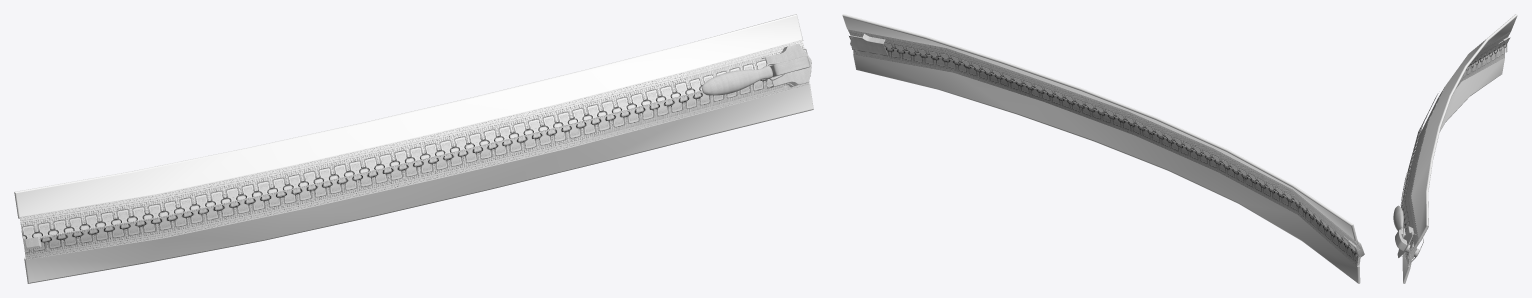
File: Welt_Pocket_with_Zip.glb
3 renders of one model, left to right at view 1: azimuth 30°, elevation 25°; view 2: azimuth 150°, elevation 25°; view 3: azimuth 270°, elevation 25°, orthographic. The views are drawn at different scales.
Visible parts, largest first — view 1: Pattern_4461596_Node, Pattern_4461595_Node, ZipperPattern_4528982_Node, ZipperPattern_4528969_Node, MatShape_934653_Node, MatShape_934661_Node, ZipperSlider4529011_Node, ZipperPuller4538679_Node; view 2: Pattern_4461595_Node, Pattern_4461596_Node, MatShape_934661_Node, ZipperPattern_4528969_Node, ZipperPattern_4528982_Node, MatShape_934653_Node, ZipperSlider4529011_Node; view 3: Pattern_4461596_Node, Pattern_4461595_Node, ZipperPattern_4528969_Node, MatShape_934653_Node, ZipperSlider4529011_Node, MatShape_934661_Node, ZipperPattern_4528982_Node, ZipperPuller4538679_Node.
Part boxes in pixels (bbox=[...]): Pattern_4461596_Node: bbox=[14, 14, 803, 218]; Pattern_4461595_Node: bbox=[24, 82, 813, 283]; ZipperPattern_4528982_Node: bbox=[24, 80, 809, 259]; ZipperPattern_4528969_Node: bbox=[19, 40, 804, 230]; MatShape_934653_Node: bbox=[21, 49, 807, 239]; MatShape_934661_Node: bbox=[24, 75, 810, 253]; ZipperSlider4529011_Node: bbox=[762, 44, 811, 88]; ZipperPuller4538679_Node: bbox=[701, 62, 784, 95]; Pattern_4461595_Node: bbox=[853, 53, 1360, 283]; Pattern_4461596_Node: bbox=[842, 14, 1357, 240]; MatShape_934661_Node: bbox=[851, 47, 1356, 260]; ZipperPattern_4528969_Node: bbox=[848, 29, 1360, 249]; ZipperPattern_4528982_Node: bbox=[853, 47, 1360, 266]; MatShape_934653_Node: bbox=[849, 36, 1356, 252]; ZipperSlider4529011_Node: bbox=[850, 34, 888, 57]; Pattern_4461596_Node: bbox=[1411, 14, 1517, 241]; Pattern_4461595_Node: bbox=[1402, 58, 1504, 283]; ZipperPattern_4528969_Node: bbox=[1403, 31, 1510, 252]; MatShape_934653_Node: bbox=[1401, 37, 1510, 250]; ZipperSlider4529011_Node: bbox=[1395, 226, 1423, 261]; MatShape_934661_Node: bbox=[1400, 44, 1507, 260]; ZipperPattern_4528982_Node: bbox=[1403, 49, 1504, 266]; ZipperPuller4538679_Node: bbox=[1393, 205, 1404, 237].
Size of the model in its own units: 10.51 by 1.86 by 2.24.
Materials: 11 (10 with a texture image).
